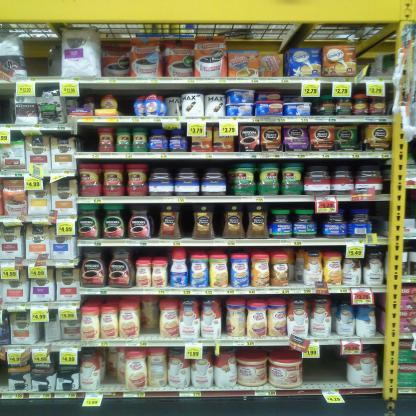Void: (25, 34, 60, 78), (357, 44, 393, 78), (304, 362, 346, 384), (106, 356, 126, 385), (79, 126, 98, 150), (117, 90, 135, 114), (372, 204, 384, 235), (180, 210, 192, 235), (324, 345, 340, 359)
